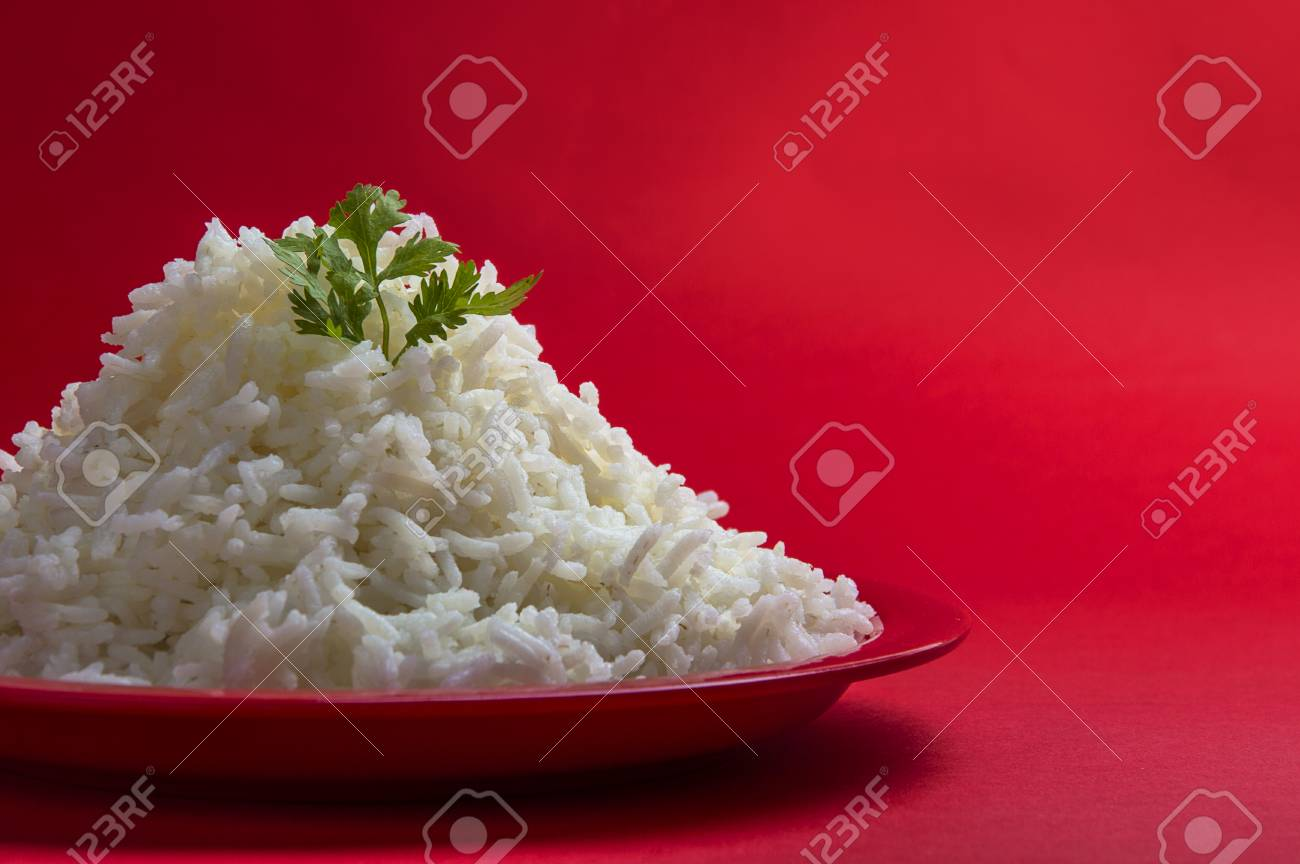plain rice: (5, 225, 875, 699)
